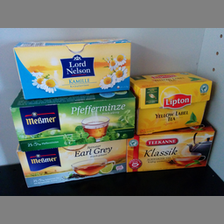tea: (13, 37, 132, 101), (10, 91, 136, 151), (15, 138, 128, 188), (127, 72, 213, 134), (126, 128, 215, 173)
